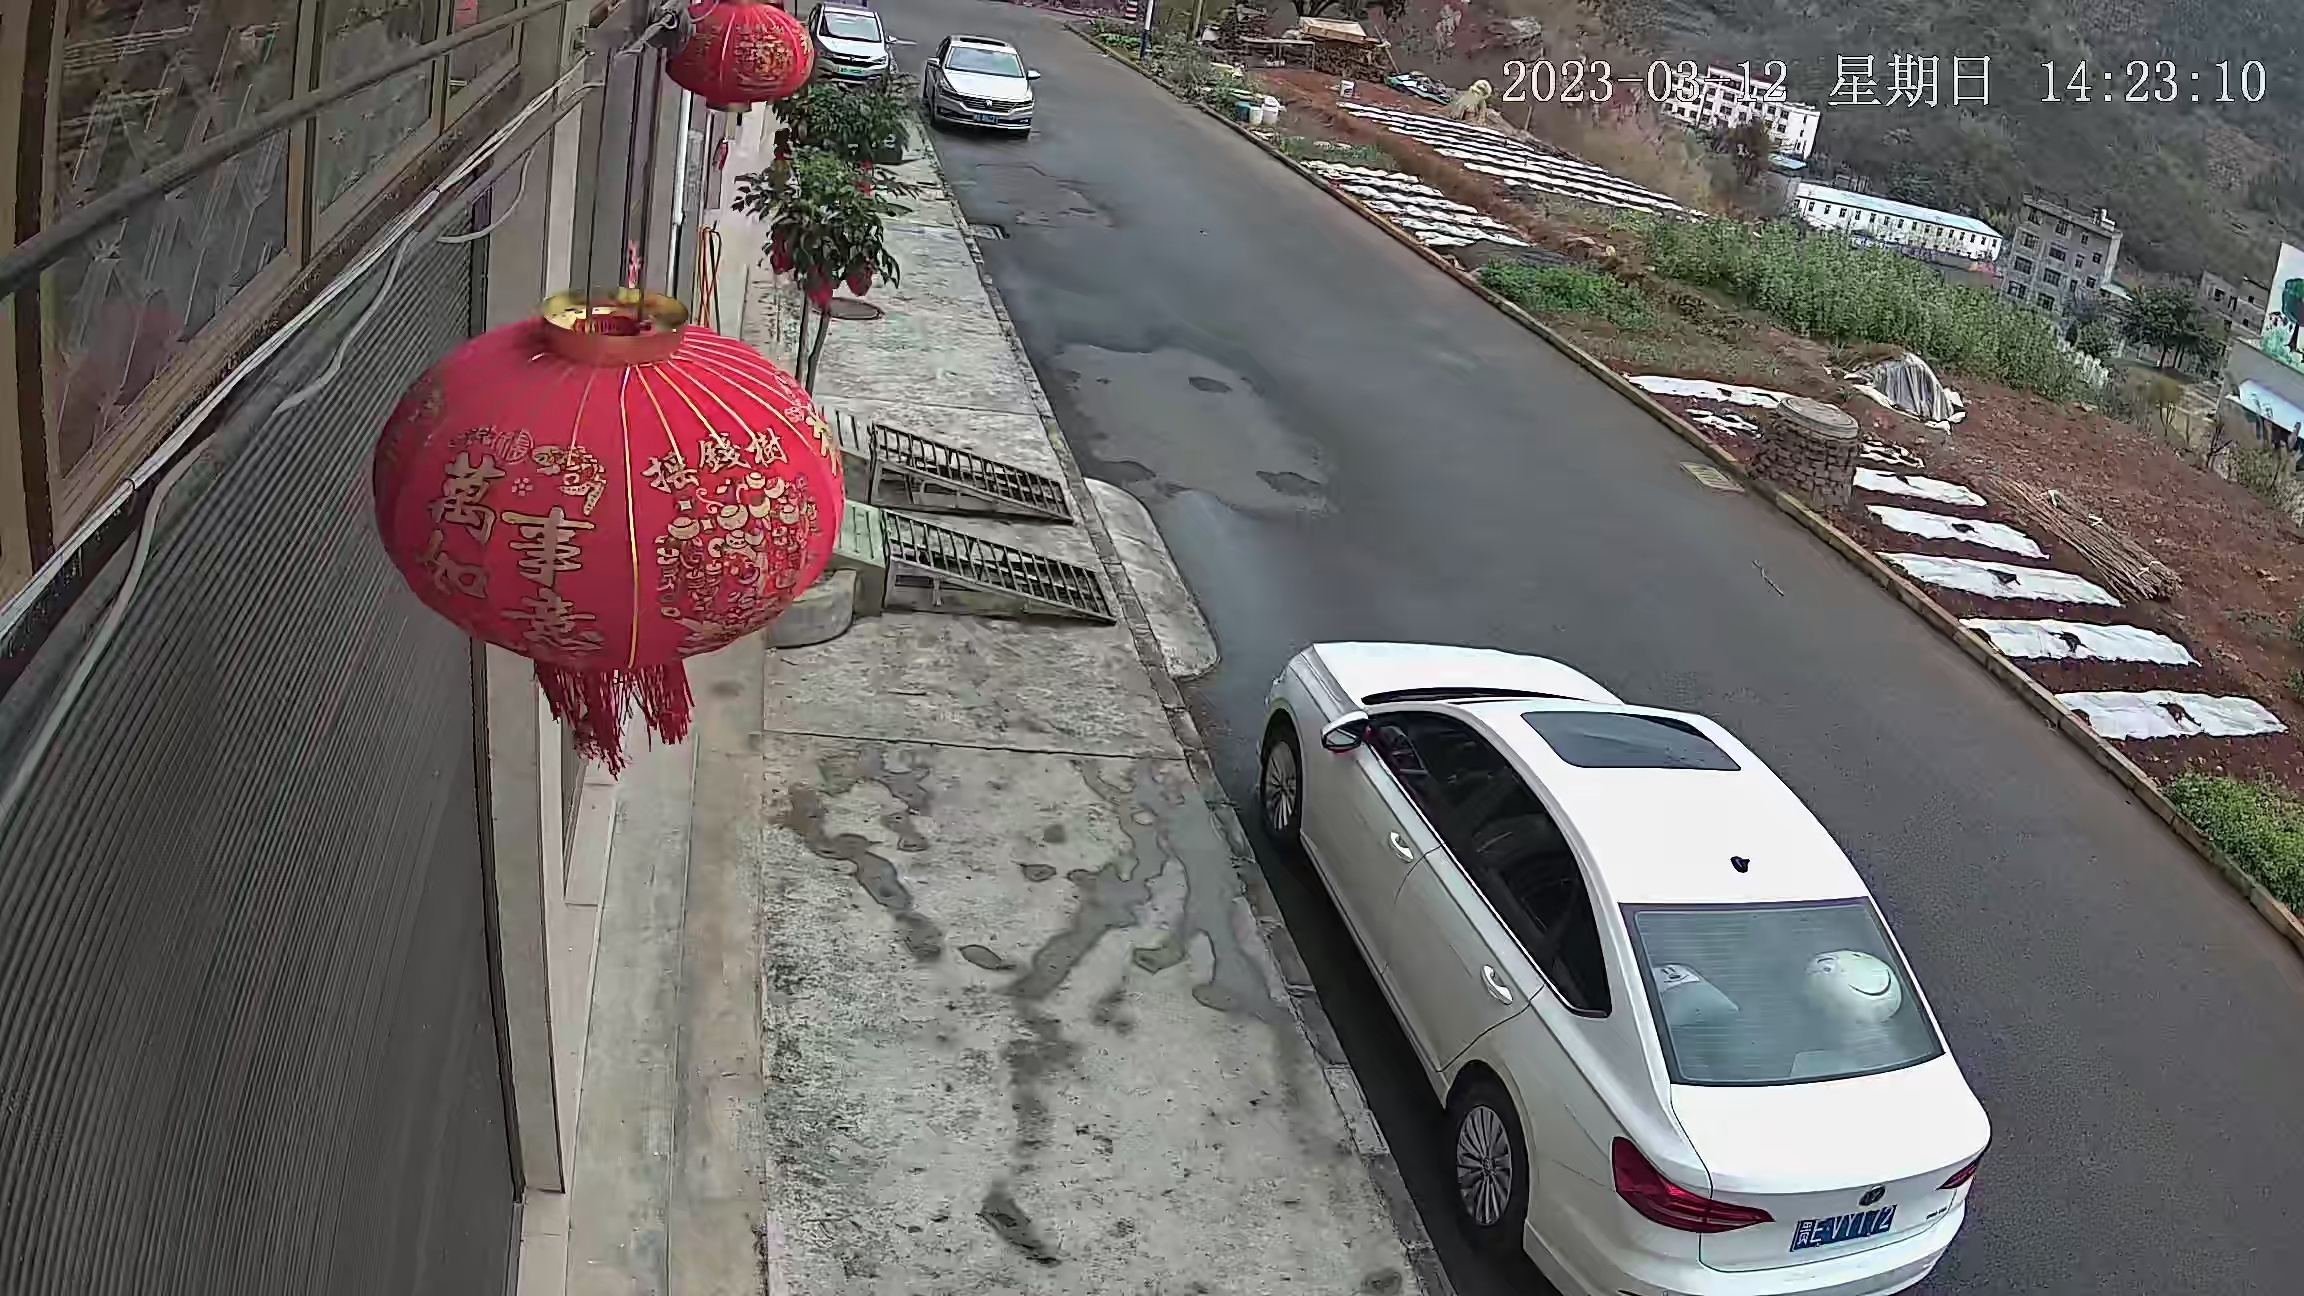sedan: (1245, 631, 2010, 1294), (918, 33, 1041, 142), (799, 2, 894, 97)
